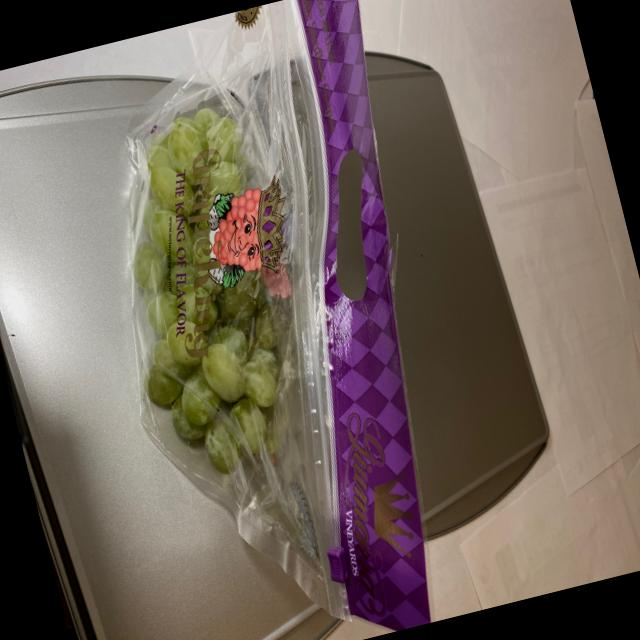grapes: (90, 82, 328, 520)
